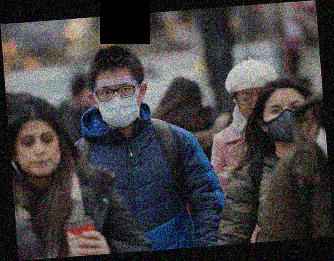with_mask: (93, 75, 141, 130), (264, 98, 308, 146)
without_mask: (14, 128, 62, 179), (236, 88, 263, 124)
